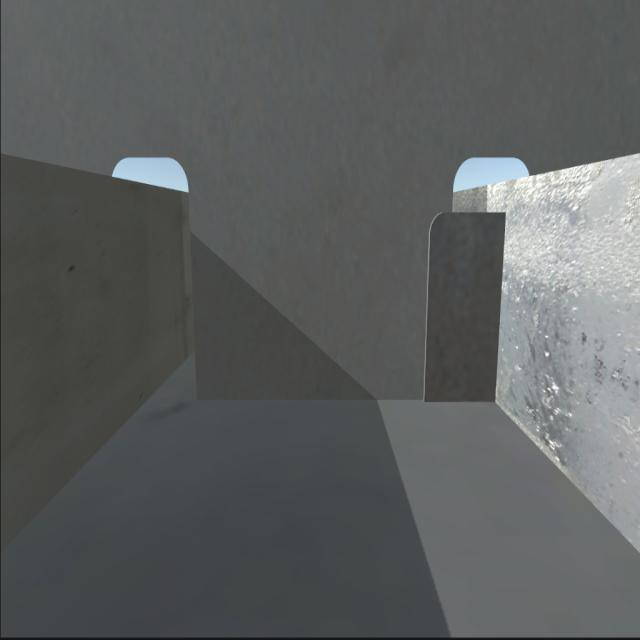fillet_yong_jeop_jang: (198, 391, 500, 412)
longi_yong_jeop_jang: (491, 221, 517, 397)
plate_CP05: (424, 201, 505, 409)
